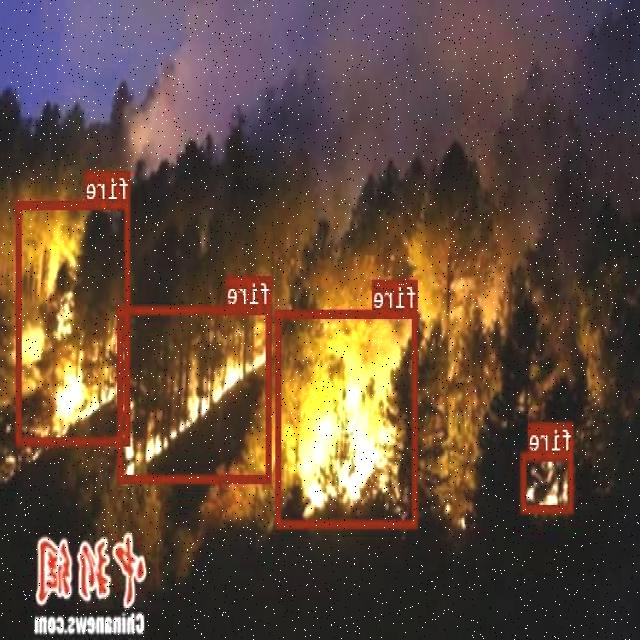fire: (278, 308, 419, 526), (18, 199, 131, 444), (119, 304, 272, 482), (522, 451, 574, 512)
